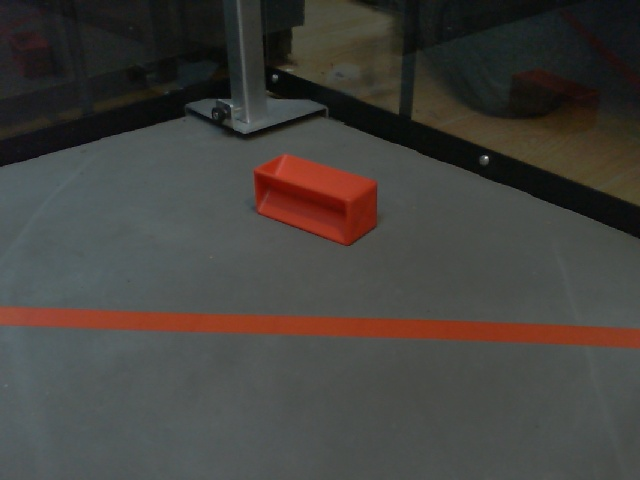RedSample: (252, 152, 380, 247)
